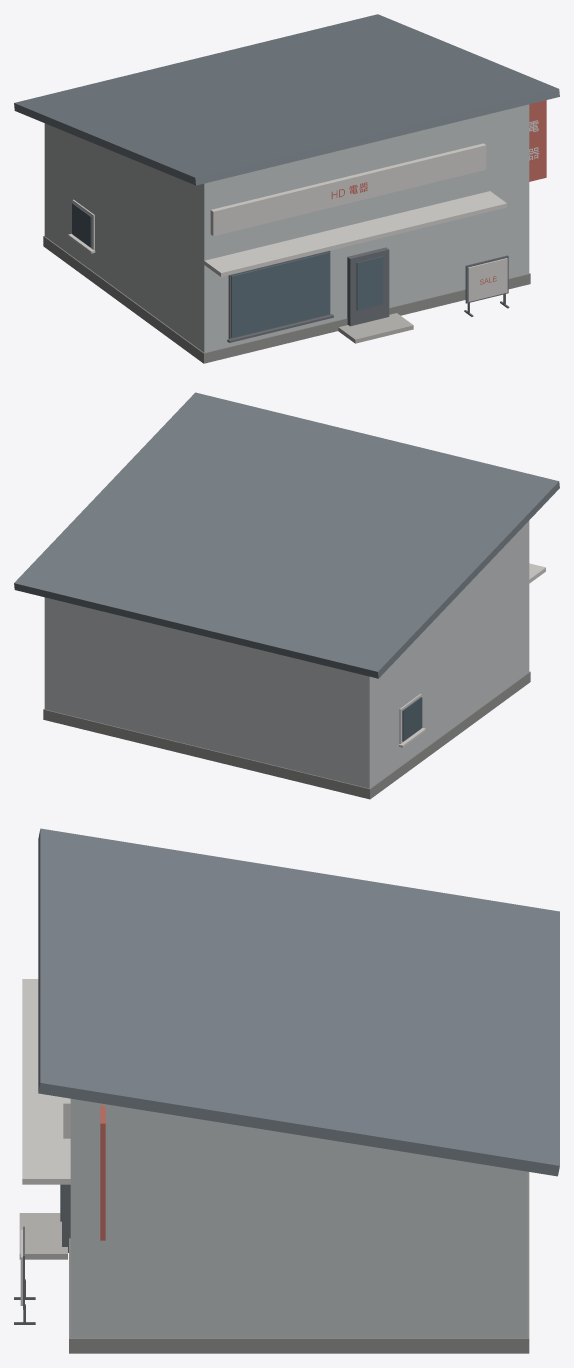
File: shop_denki.glb
3 renders of one model, top to bottom at view 1: azimuth 30°, elevation 25°; view 2: azimuth 150°, elevation 25°; view 3: azimuth 270°, elevation 25°, orthographic. The views are drawn at different scales.
Visible parts, largest first — view 1: Static, Sign; view 2: Static; view 3: Static, Sign.
Part boxes in pixels (x1,y1,x2,y2): Static: (14,14,559,363); Sign: (210,100,546,236); Static: (14,392,559,799); Static: (14,828,559,1353); Sign: (63,1097,105,1240).
Bounding box in the file's own units: 11.45 × 5.82 × 10.16.
